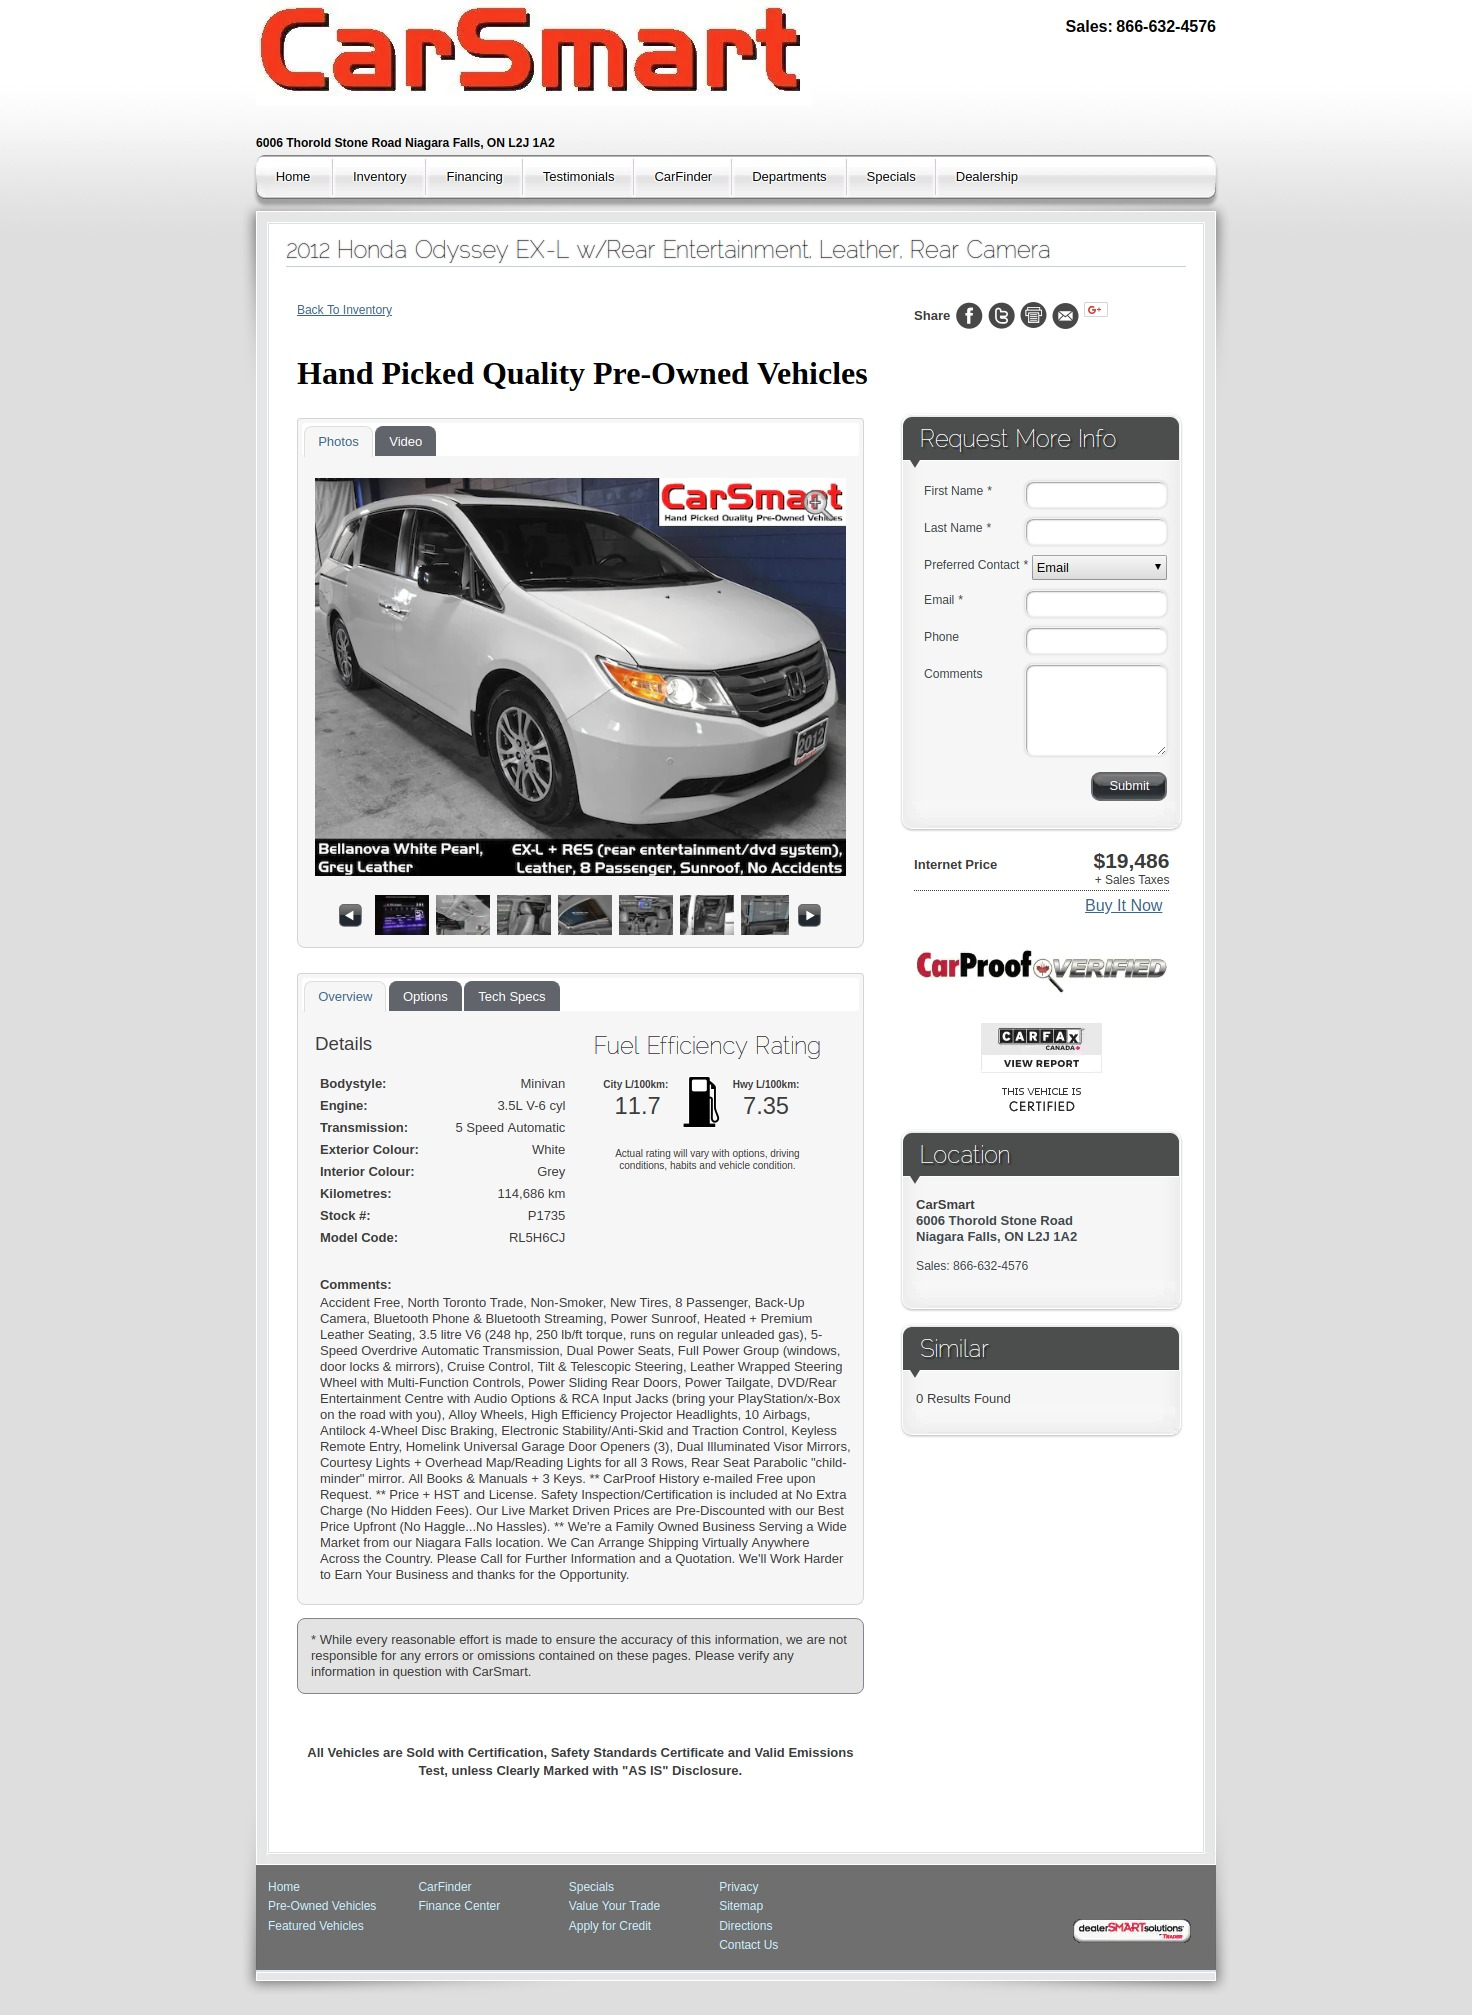car: (799, 904, 821, 928)
